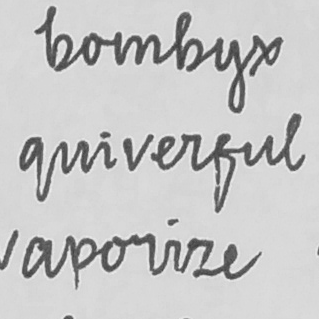e: (156, 133, 177, 172)
f: (208, 130, 238, 214)
i: (94, 130, 119, 171)
l: (280, 110, 308, 172)
q: (16, 133, 49, 204)
r: (178, 131, 206, 173)
u: (58, 137, 92, 176), (241, 131, 275, 169)
v: (121, 131, 155, 173)
